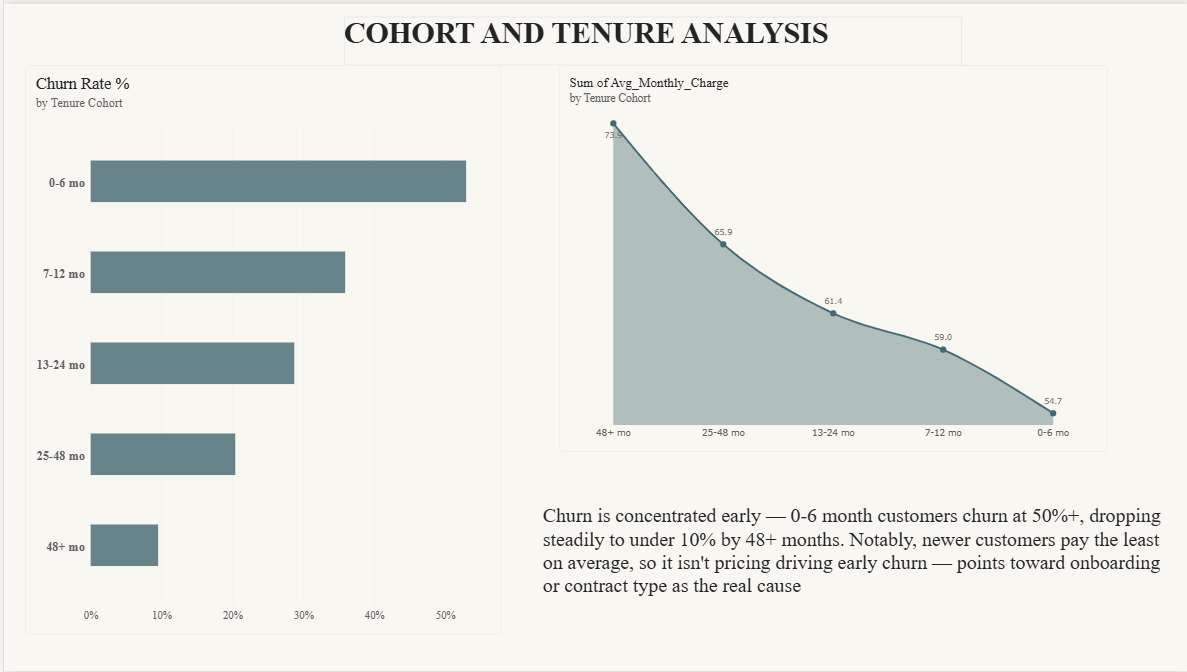

What the dashboard file says about the page in this screenshot:
{"tool":"powerbi","page":{"name":"Analysis","canvas":[1920,1080],"ordinal":2},"visuals":[{"type":"textbox","box":[549.8,20.2,998.3,78.2],"z":0},{"type":"barChart","fields":{"Category":["cohort_summary.Tenure Cohort"],"Y":["cleaned_telco_churn.Churn Rate %"]},"box":[35,98.8,769.8,920.1],"z":1},{"type":"areaChart","fields":{"Category":["cohort_summary.Tenure Cohort"],"Y":["Sum(cohort_summary.Avg_Monthly_Charge)"]},"box":[897.5,99.1,887.4,624.6],"z":2},{"type":"textbox","box":[871.3,808.6,1028.9,194.1],"z":3}]}

Visuals, with their boxes in screenshot pixels (x1, y1, x2, y2), scaled from the page's 1920x1080 canvas onto the 1187x672 screenshot:
textbox: Rect(340, 13, 957, 61)
barChart - cohort_summary.Tenure Cohort x cleaned_telco_churn.Churn Rate %: Rect(22, 61, 498, 634)
areaChart - cohort_summary.Tenure Cohort x Sum(cohort_summary.Avg_Monthly_Charge): Rect(555, 62, 1103, 450)
textbox: Rect(539, 503, 1175, 624)
